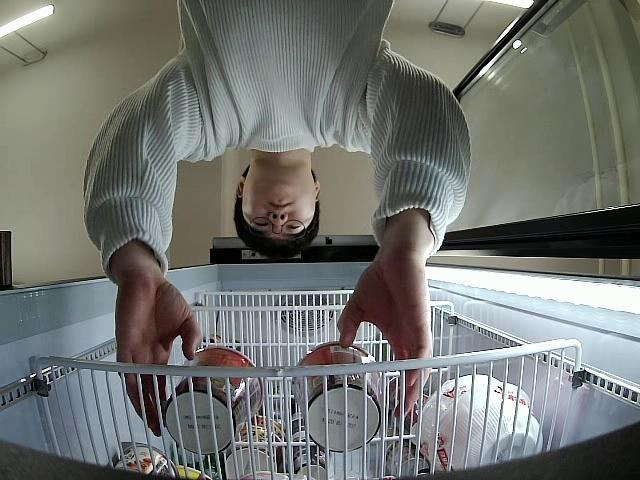02_shinRamen_S: (288, 340, 387, 456), (162, 346, 263, 458)
